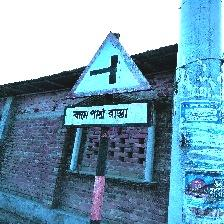Side-road-left: (65, 31, 153, 127)
